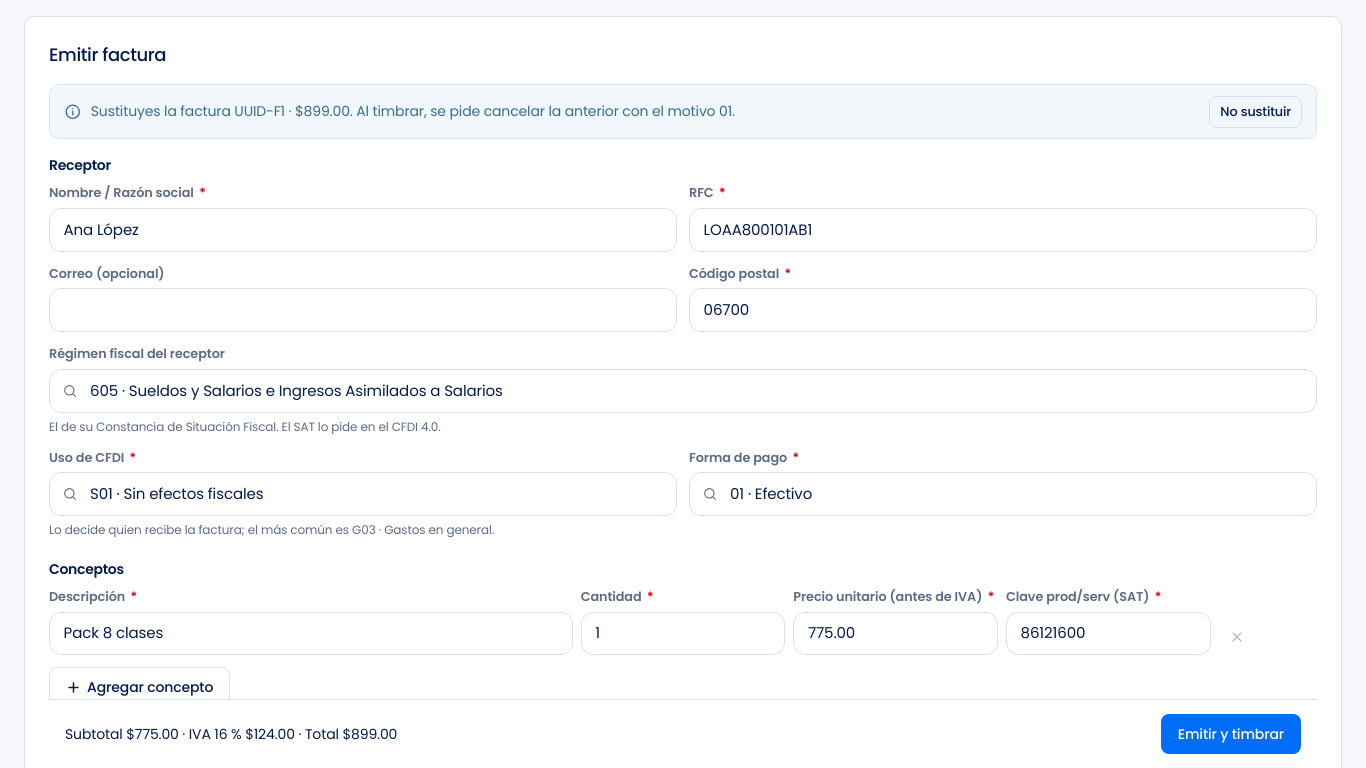
cancelar, sustituir y notas de crédito (ADR 0180) › la sustituta trae lo timbrado y manda la factura que sustituye
This screenshot has width=1366, height=768.
(page scrolled)
Expected: the text "Sustituyes la factura UUID-F1" is shown, [91,101,735,121]
Replace the text in the field with id "fa-rfc" with "LOAA800101AB2". click: (1003, 230)
box: [689,208,1317,252]
(page scrolled)
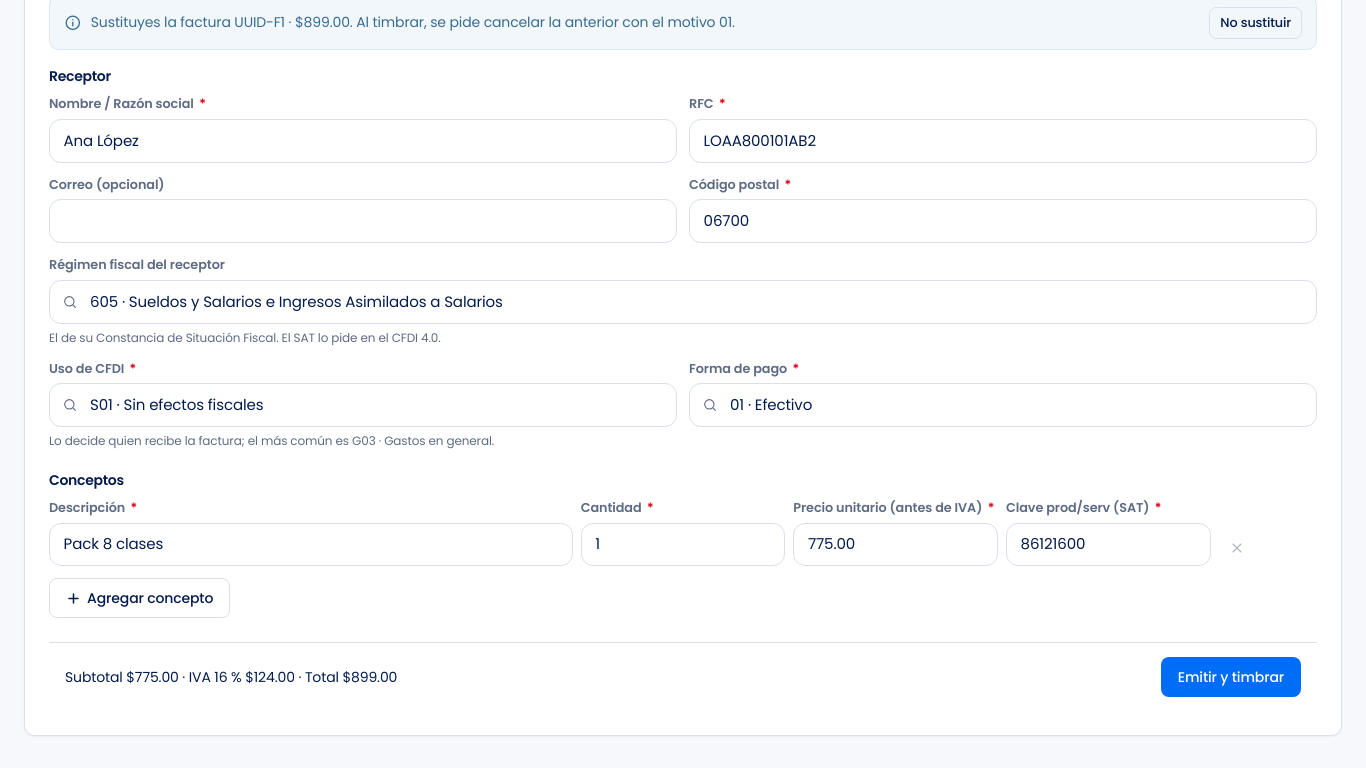
Submit the form
(page scrolled)
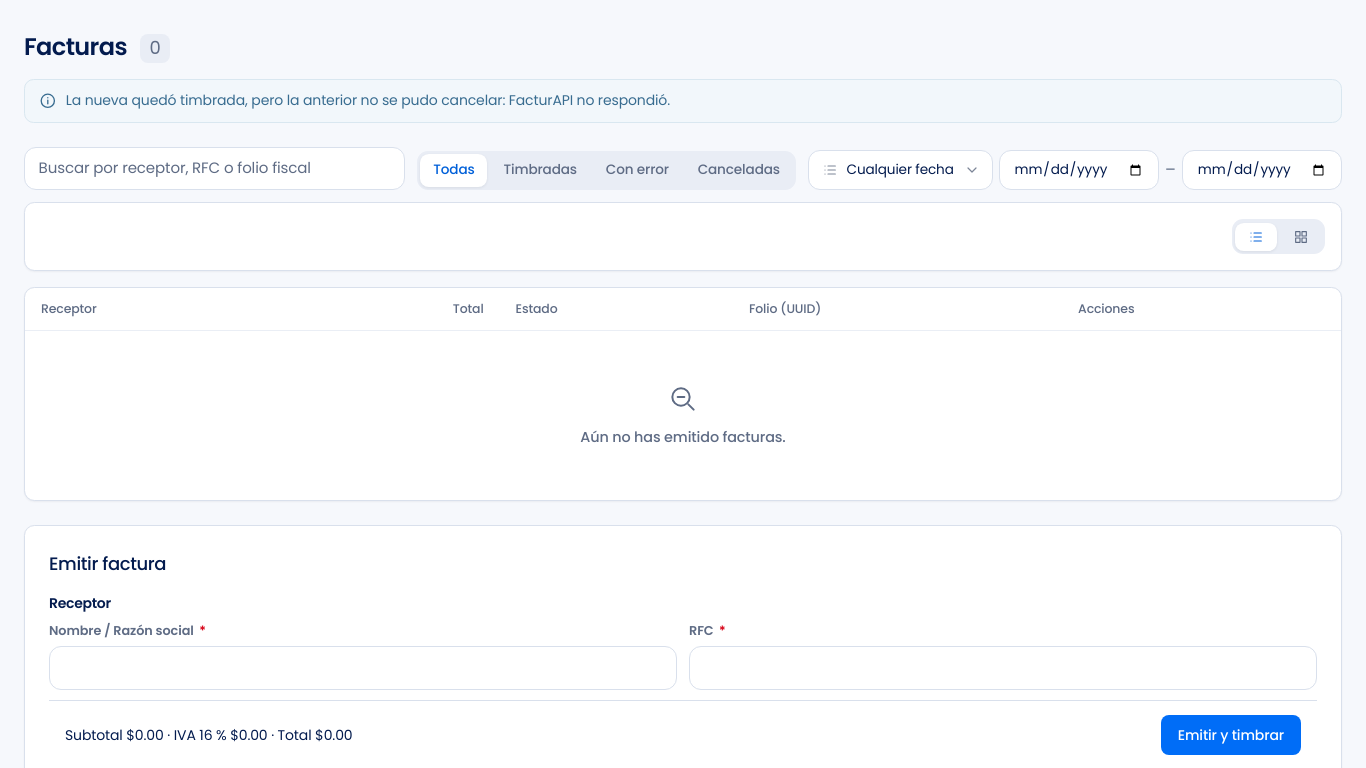
Result: the 1st message shows "FacturAPI no respondió." at [66,90,670,110]
